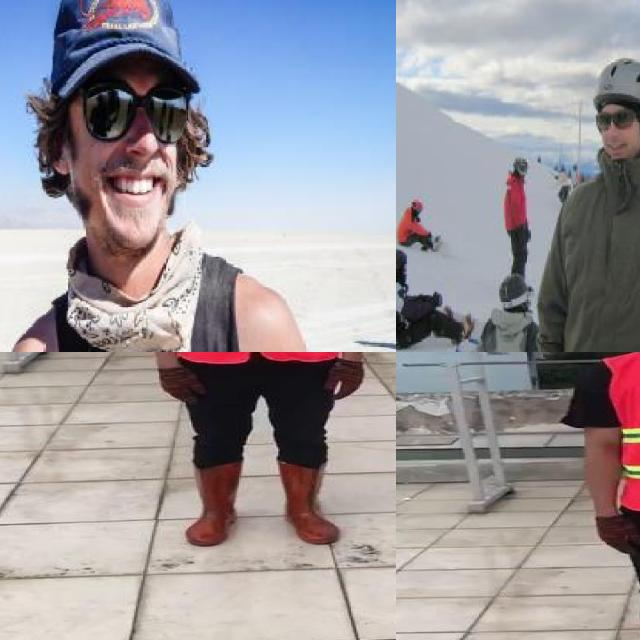boots: (278, 463, 339, 546), (184, 464, 246, 545)
face_nomask: (79, 76, 186, 211), (593, 108, 640, 159)
glasses: (54, 66, 202, 140), (593, 110, 639, 134)
hand_glove: (592, 514, 640, 553), (158, 364, 204, 402), (323, 360, 365, 399)
head_helmet: (591, 57, 640, 106), (494, 272, 537, 310), (396, 243, 414, 276), (511, 154, 534, 174), (408, 196, 428, 214)
head_nohelmet: (44, 0, 205, 97)
person: (6, 0, 331, 352), (129, 352, 382, 558), (553, 42, 640, 352), (588, 352, 640, 640), (396, 249, 473, 347), (463, 272, 550, 352), (497, 153, 538, 291), (396, 195, 450, 257)
